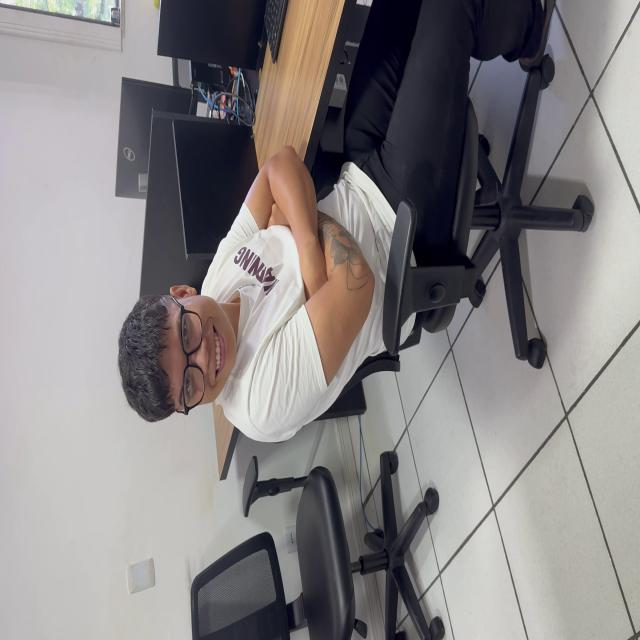sentado: (118, 0, 557, 444)
